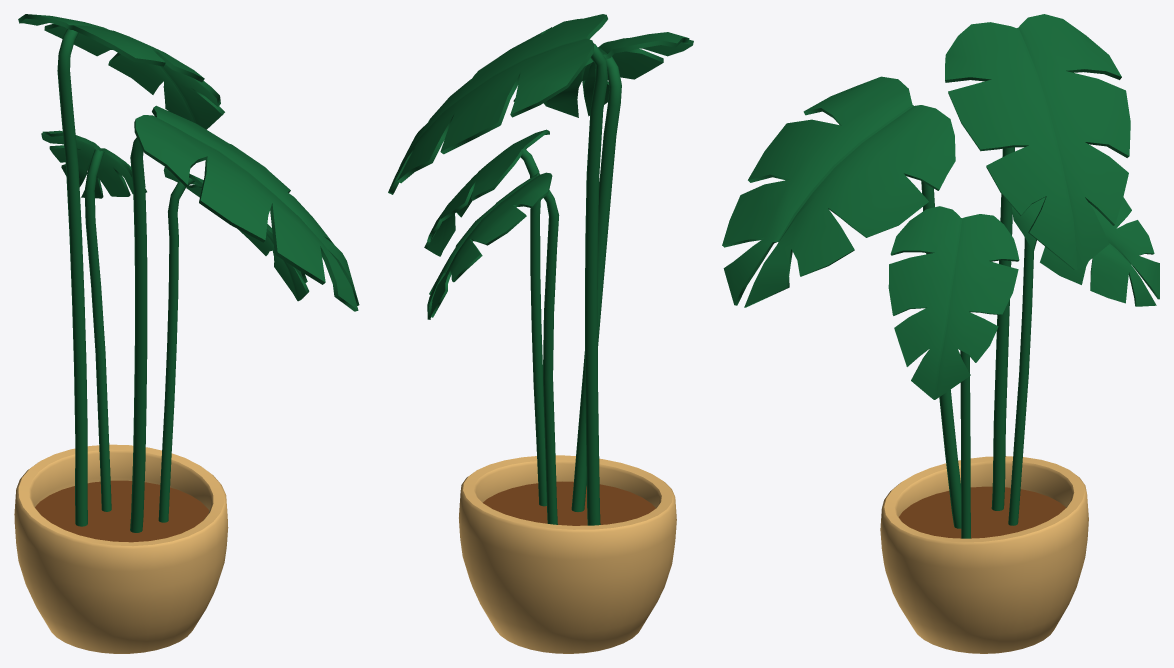
Rendered from pot_plant_03.glb.
The picture shows the model from 3 angles, left to right: view 1: azimuth 30°, elevation 25°; view 2: azimuth 150°, elevation 25°; view 3: azimuth 270°, elevation 25°; orthographic projection. The views are drawn at different scales.
Visible parts, largest first — view 1: Plant; view 2: Plant; view 3: Plant.
Boxes of the visible parts, <box> form: Plant: <box>14,14,359,653</box>; Plant: <box>388,14,693,653</box>; Plant: <box>722,14,1159,653</box>.
Size of the model in its own units: 0.7547 by 1.76 by 1.19.
3 materials, 2 textured.
